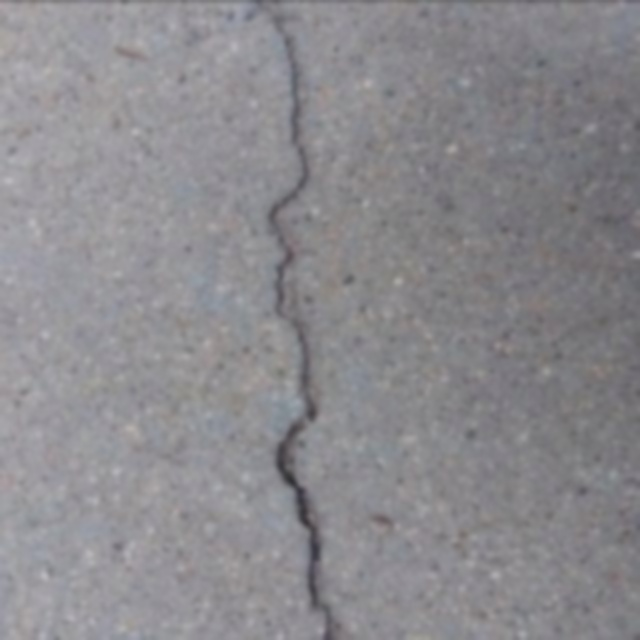SurfaceCrack: (244, 8, 354, 640)
